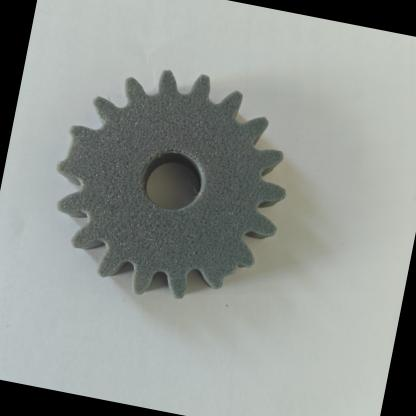defect: (40, 97, 153, 209), (196, 232, 282, 319)
gear: (10, 35, 333, 341)
